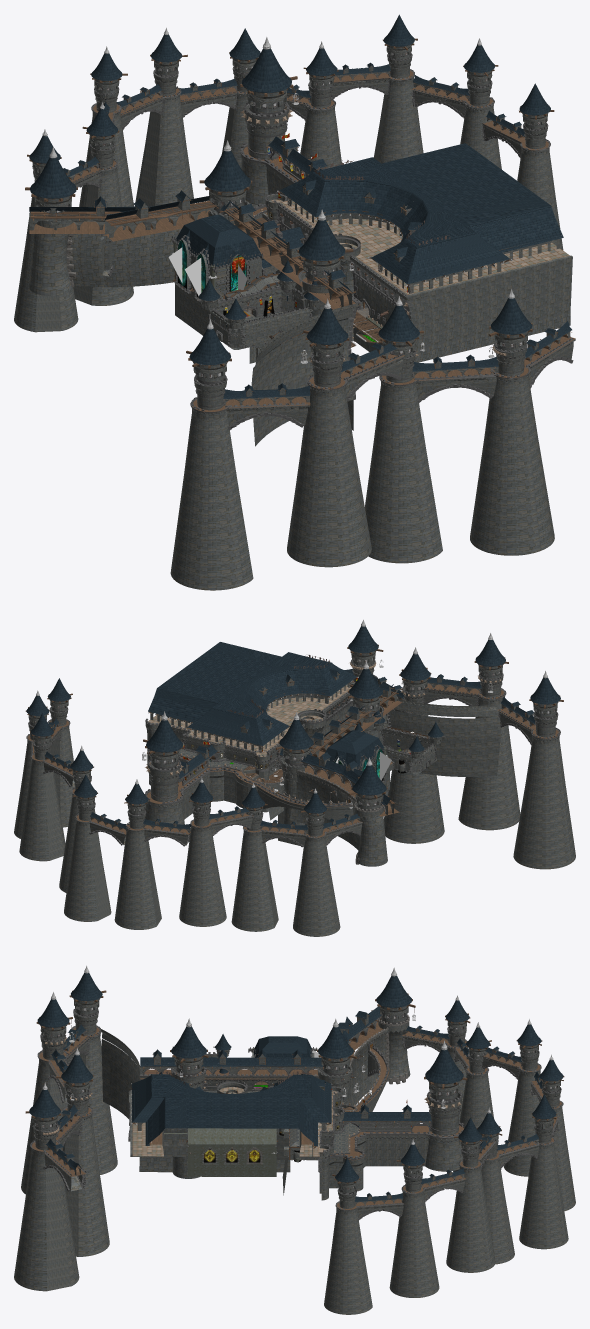
File: ctr_cortex_castle_nitro.glb
3 views of the same model, one above another, from view 1: azimuth 30°, elevation 25°; view 2: azimuth 150°, elevation 25°; view 3: azimuth 270°, elevation 25° (orthographic). The views are drawn at different scales.
Parts seen in each view (by area): view 1: T152_Cortex_T152_Stone_Brick01_C-material, T152_Cortex_T152_Red_Roof_C-material, C1_RR_GrayStoneBase_C-material, C1_Wood_Planks01_C-material, C1_Wood_Rough01_C-material, C1_Factory_Floor01_C-material, C1_Metal_Steel_02_G-material, fxt_rand_lightrays-material; view 2: T152_Cortex_T152_Stone_Brick01_C-material, T152_Cortex_T152_Red_Roof_C-material, C1_RR_GrayStoneBase_C-material, C1_Wood_Planks01_C-material, C1_Wood_Rough01_C-material, C1_Factory_Floor01_C-material, C1_Metal_Steel_02_G-material, C1_Stone_Brick02_C-material; view 3: T152_Cortex_T152_Stone_Brick01_C-material, T152_Cortex_T152_Red_Roof_C-material, C1_RR_GrayStoneBase_C-material, C1_Wood_Planks01_C-material, templeStone_Base_C-material, C1_Wood_Rough01_C-material, C1_Factory_Floor01_C-material, C1_Stone_Brick02_C-material, C1_Metal_Steel_02_G-material, T152_Cortex_T152_RockFloor01_Wet_C-material.
Part boxes in pixels (x1,y1,x2,y2): T152_Cortex_T152_Stone_Brick01_C-material: (14, 45, 575, 590); T152_Cortex_T152_Red_Roof_C-material: (29, 14, 571, 398); C1_RR_GrayStoneBase_C-material: (30, 51, 574, 430); C1_Wood_Planks01_C-material: (29, 70, 575, 411); C1_Wood_Rough01_C-material: (25, 38, 571, 399); C1_Factory_Floor01_C-material: (269, 199, 569, 294); C1_Metal_Steel_02_G-material: (42, 27, 514, 363); fxt_rand_lightrays-material: (168, 247, 247, 295); T152_Cortex_T152_Stone_Brick01_C-material: (14, 650, 575, 936); T152_Cortex_T152_Red_Roof_C-material: (26, 626, 560, 830); C1_RR_GrayStoneBase_C-material: (26, 658, 560, 847); C1_Wood_Planks01_C-material: (27, 681, 558, 837); C1_Wood_Rough01_C-material: (25, 644, 563, 830); C1_Factory_Floor01_C-material: (148, 684, 351, 756); C1_Metal_Steel_02_G-material: (36, 619, 547, 808); C1_Stone_Brick02_C-material: (44, 681, 513, 864); T152_Cortex_T152_Stone_Brick01_C-material: (14, 998, 575, 1314); T152_Cortex_T152_Red_Roof_C-material: (29, 973, 563, 1201); C1_RR_GrayStoneBase_C-material: (30, 1006, 563, 1219); C1_Wood_Planks01_C-material: (32, 1018, 561, 1209); templeStone_Base_C-material: (164, 1048, 341, 1176); C1_Wood_Rough01_C-material: (25, 990, 564, 1201); C1_Factory_Floor01_C-material: (132, 1087, 339, 1156); C1_Stone_Brick02_C-material: (46, 1014, 538, 1203); C1_Metal_Steel_02_G-material: (42, 965, 553, 1162); T152_Cortex_T152_RockFloor01_Wet_C-material: (330, 1123, 358, 1153).
Bounding box in the file's own units: 3081 × 1647 × 3478.
Materials: 66 (65 with a texture image).
